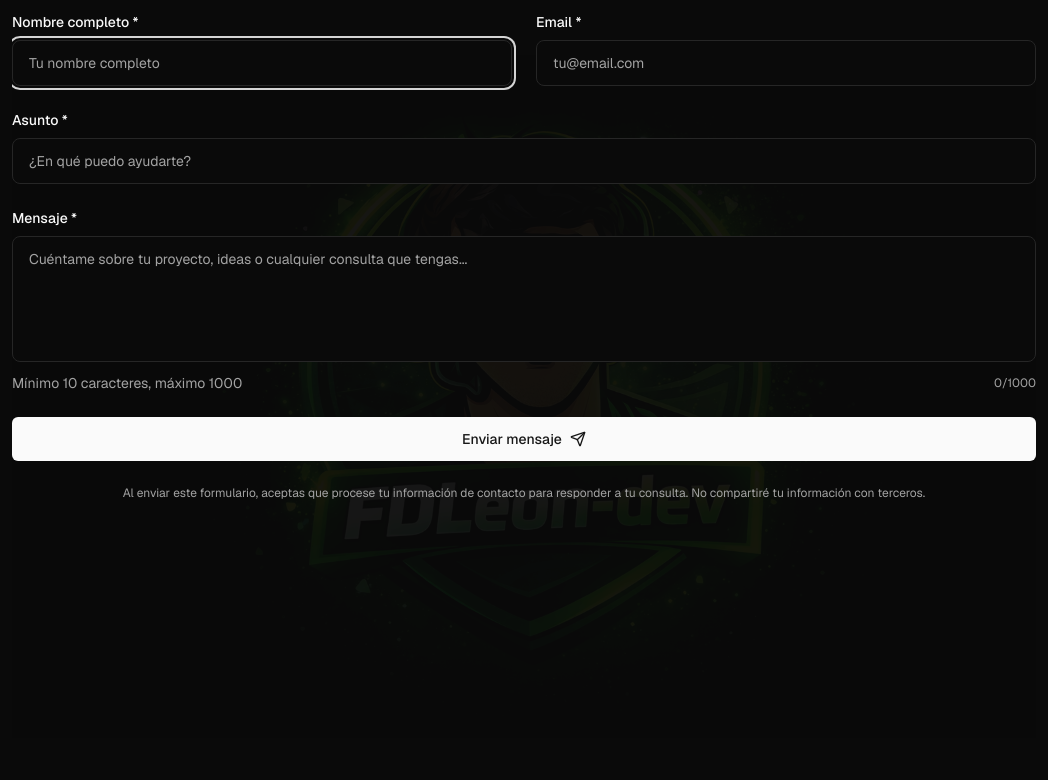
Test case: ContactForm › validates minimum length for name
Type "A" into the field labelled "Nombre completo *" at (262, 63), box 12,40 -> 512,86
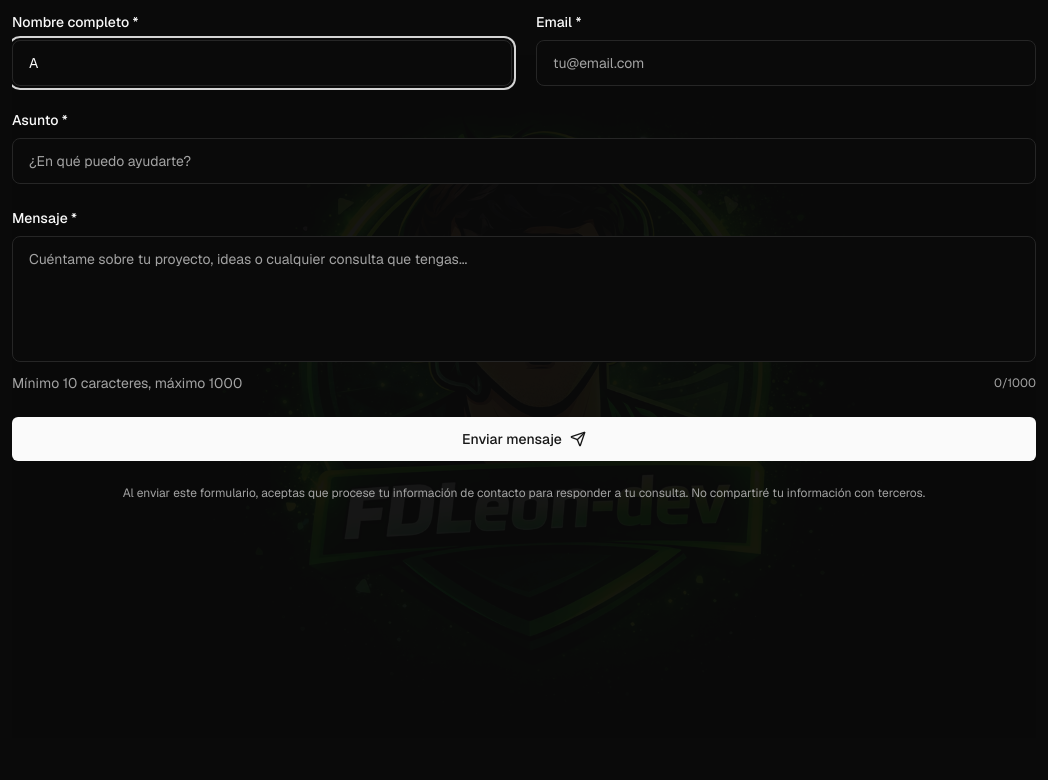
Leave the field labelled "Nombre completo *", box 12,40 -> 512,86
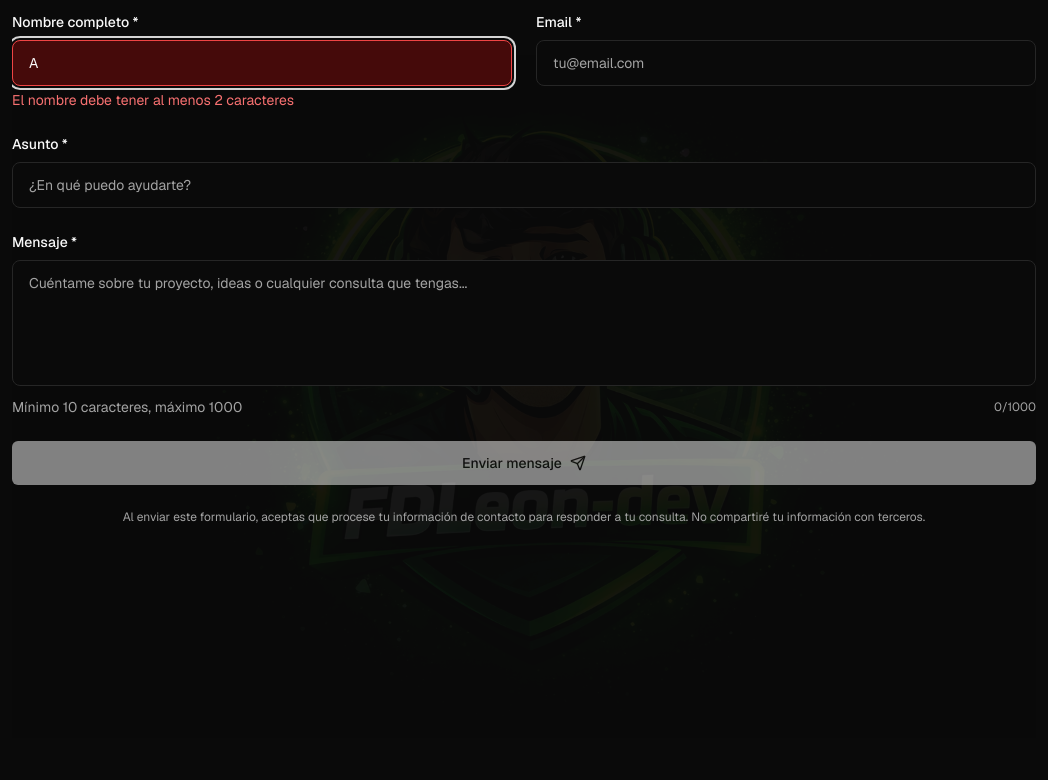
Now the text "El nombre debe tener al menos 2 caracteres" is shown, box 12,91 -> 294,109
